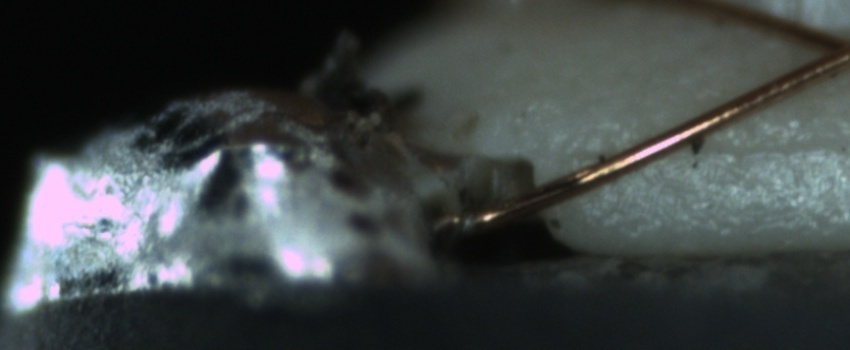CL: (800, 17, 850, 77)
DL: (677, 112, 849, 178)
